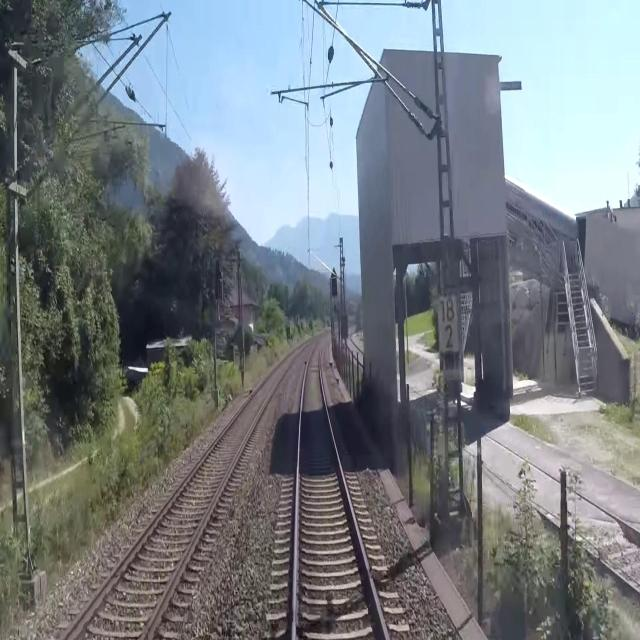rail-track: (66, 348, 299, 639), (296, 347, 384, 639)
